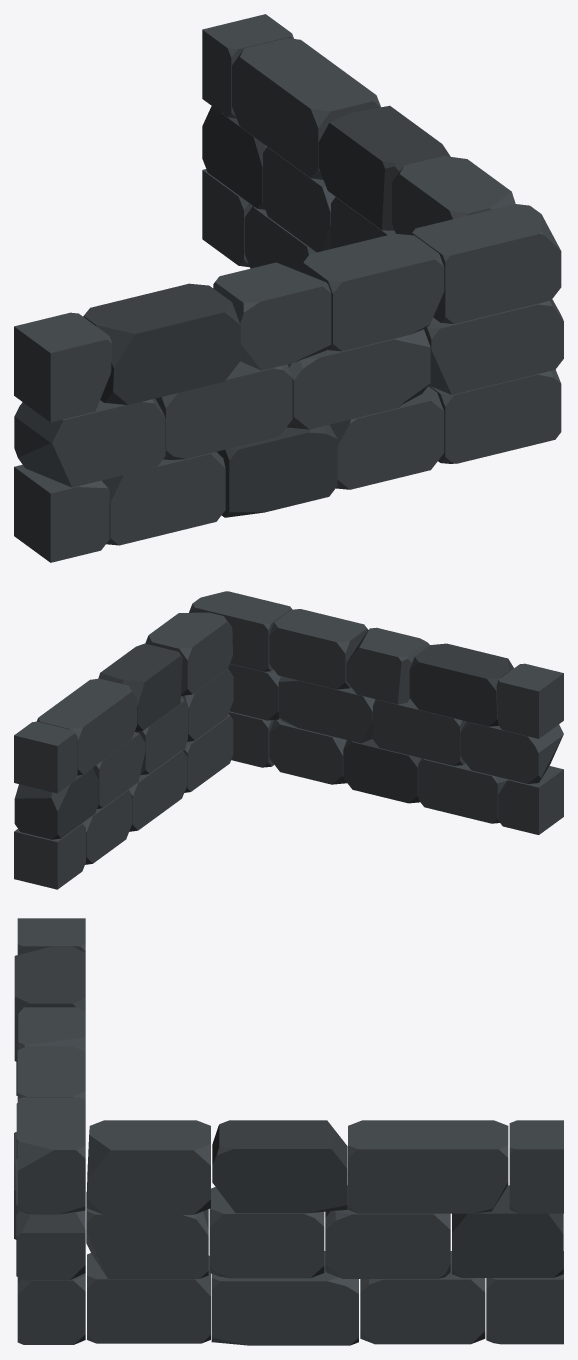
Rendered from Fence_07.glb.
3 views of the same model, one above another, from view 1: azimuth 30°, elevation 25°; view 2: azimuth 150°, elevation 25°; view 3: azimuth 270°, elevation 25° (orthographic). The views are drawn at different scales.
Parts seen in each view (by area): view 1: Fence_07_LOD0; view 2: Fence_07_LOD0; view 3: Fence_07_LOD0.
Boxes of the visible parts, box(x1,y1,x2,y2) form: Fence_07_LOD0: box(14, 14, 563, 562); Fence_07_LOD0: box(14, 591, 563, 889); Fence_07_LOD0: box(14, 918, 563, 1345).
Size of what is drawn, in the model's own units: 2.3 by 0.9 by 2.3.
Materials: 1 (1 with a texture image).
